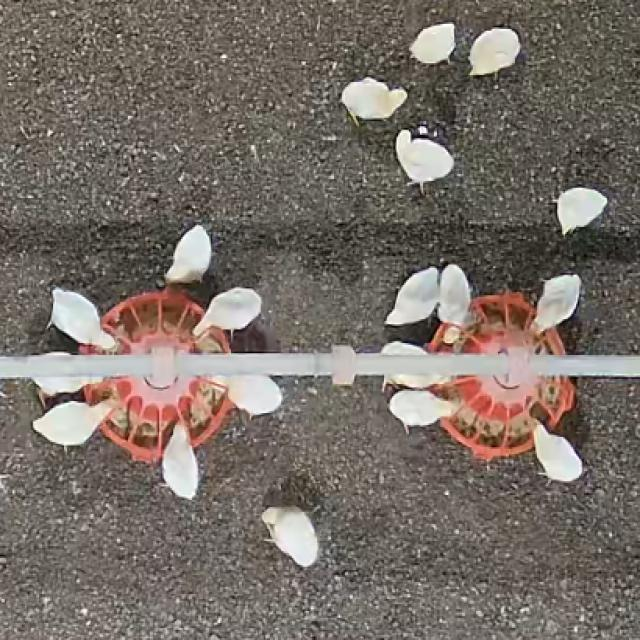broiler: (33, 399, 116, 444), (52, 287, 114, 346), (261, 507, 318, 567), (395, 130, 453, 186), (194, 287, 259, 335), (386, 266, 439, 324), (340, 77, 406, 123), (532, 422, 582, 480), (211, 375, 281, 415), (389, 389, 457, 428), (165, 225, 211, 282), (534, 275, 581, 329), (468, 27, 520, 75), (556, 188, 606, 234), (437, 265, 470, 324), (409, 22, 454, 63), (33, 375, 101, 398), (384, 372, 448, 387), (381, 341, 428, 353), (43, 352, 69, 358)
pipe: (172, 346, 512, 379), (0, 355, 153, 379), (524, 355, 638, 375)
rice: (81, 379, 237, 461), (432, 377, 576, 457), (81, 283, 229, 353), (428, 292, 564, 353)
